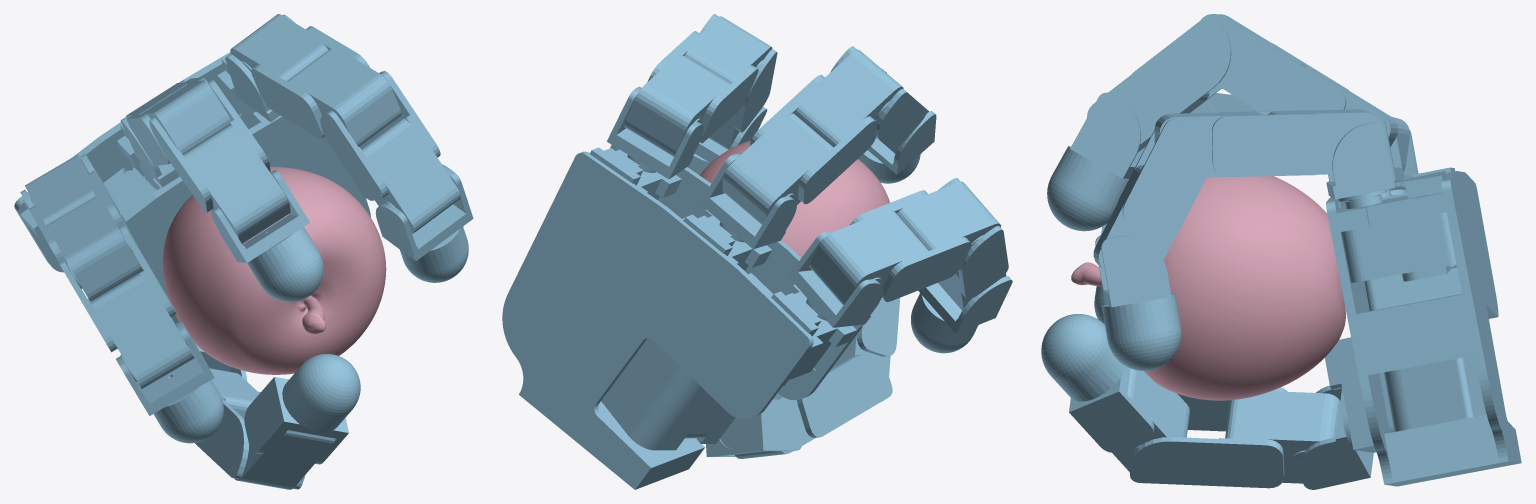
3 renders of one model, left to right at view 1: azimuth 30°, elevation 25°; view 2: azimuth 150°, elevation 25°; view 3: azimuth 270°, elevation 25°, orthographic. The views are drawn at different scales.
Parts seen in each view (by area): view 1: world, apple.stl; view 2: world, apple.stl; view 3: world, apple.stl.
Part boxes in pixels (x1,y1,x2,y2): world: (14, 14, 473, 489); apple.stl: (162, 167, 386, 374); world: (502, 14, 1012, 489); apple.stl: (699, 140, 889, 257); world: (1041, 14, 1521, 489); apple.stl: (1071, 176, 1345, 400).
Bounding box in the file's own units: 0.1564 × 0.1559 × 0.1544.
